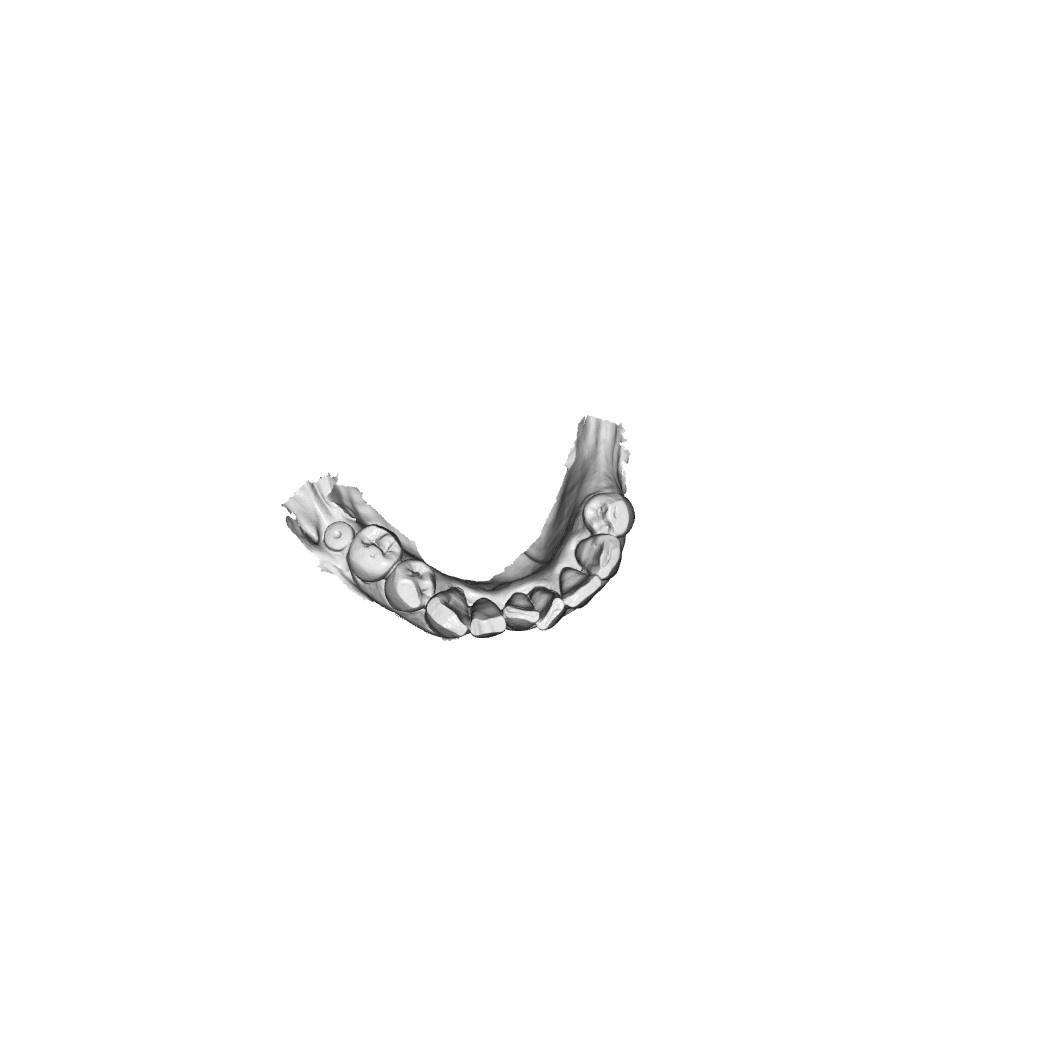canine: (424, 595, 470, 643), (575, 535, 618, 576)
implant: (323, 509, 350, 553)
incisor: (533, 585, 565, 624), (477, 598, 506, 639), (507, 590, 536, 627), (561, 573, 594, 604)
premolar: (350, 525, 397, 579), (384, 559, 432, 611), (589, 495, 633, 534)
